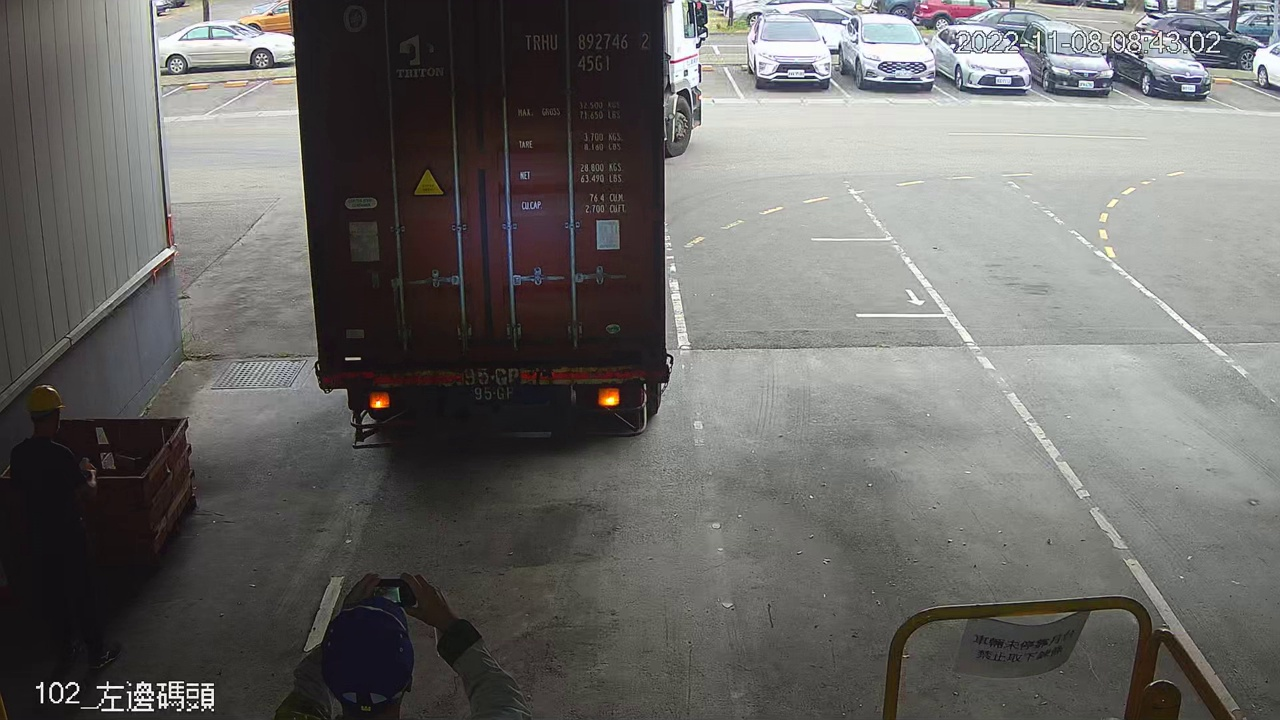container: (517, 26, 655, 79)
